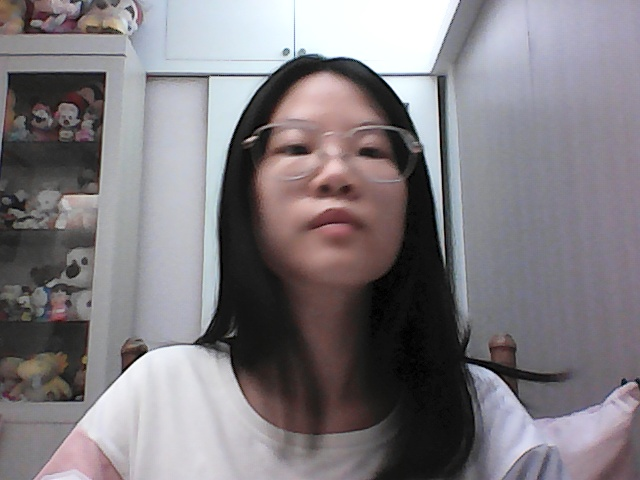NoMask: (246, 167, 414, 298)
